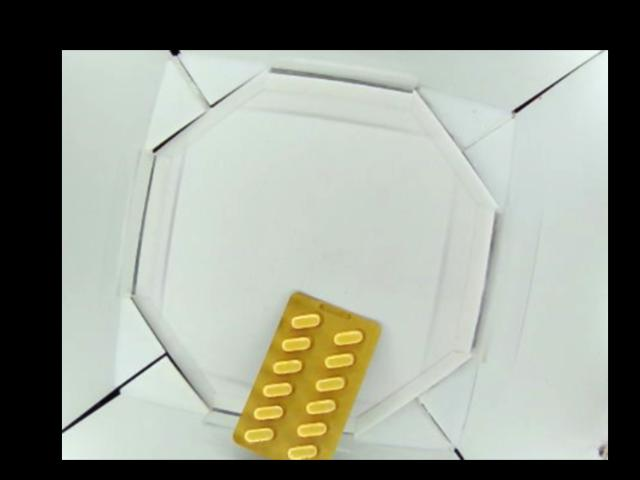Medicine: (232, 293, 383, 459)
